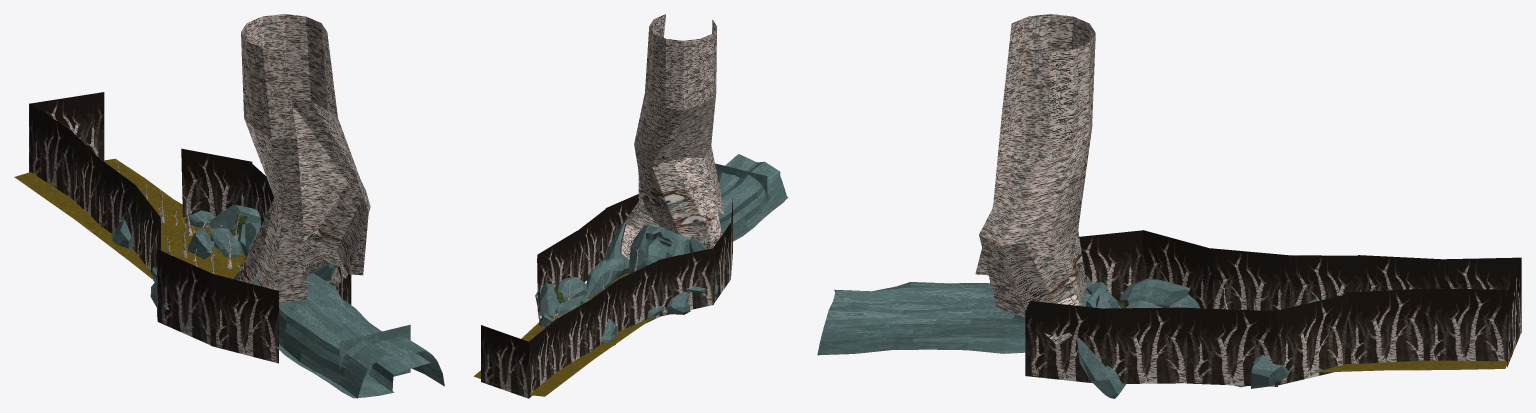
File: map_finale2.obj
The picture shows the model from 3 angles, left to right: view 1: azimuth 30°, elevation 25°; view 2: azimuth 150°, elevation 25°; view 3: azimuth 270°, elevation 25°; orthographic projection. The views are drawn at different scales.
Visible parts, largest first — view 1: big_tree, roof, lvl_floor, foret.013, foret.003, foret.012, foret.007, foret.006, foret.009, foret.008, foret.010, double_jump (+9 smaller); view 2: big_tree, roof, foret.006, foret.011, foret.010, foret.008, lvl_floor, foret.002, foret.001, foret.007, foret.009, foret.012 (+12 smaller); view 3: big_tree, roof, foret.002, foret.005, foret.001, foret.004, foret, foret.003, foret.010, foret.011, foret.009, foret.012 (+8 smaller).
Boxes of the visible parts, <box> form: big_tree: <box>238,14,370,303</box>; roof: <box>252,272,444,398</box>; lvl_floor: <box>14,158,245,280</box>; foret.013: <box>210,273,278,363</box>; foret.003: <box>181,148,252,217</box>; foret.012: <box>157,249,212,344</box>; foret.007: <box>30,104,72,197</box>; foret.006: <box>29,92,104,172</box>; foret.009: <box>96,156,136,251</box>; foret.008: <box>71,131,102,227</box>; foret.010: <box>135,185,160,281</box>; double_jump: <box>369,353,430,391</box>; big_tree: <box>620,14,724,259</box>; roof: <box>649,154,786,253</box>; foret.006: <box>481,325,529,398</box>; foret.011: <box>658,248,713,316</box>; foret.010: <box>618,260,660,331</box>; foret.008: <box>556,298,593,371</box>; lvl_floor: <box>473,273,655,396</box>; foret.002: <box>537,231,576,310</box>; foret.001: <box>577,208,606,282</box>; foret.007: <box>529,319,556,397</box>; foret.009: <box>587,279,618,353</box>; foret.012: <box>713,223,730,303</box>; big_tree: <box>975,14,1095,345</box>; roof: <box>817,282,1091,355</box>; foret.002: <box>1187,308,1277,386</box>; foret.005: <box>1423,288,1507,361</box>; foret.001: <box>1105,307,1188,383</box>; foret.004: <box>1344,288,1427,363</box>; foret: <box>1025,301,1106,383</box>; foret.003: <box>1275,294,1348,385</box>; foret.010: <box>1211,248,1291,311</box>; foret.011: <box>1142,230,1212,308</box>; foret.009: <box>1289,255,1368,307</box>; foret.012: <box>1079,230,1142,307</box>.
Size of the model in its own units: 49.67 by 88.37 by 171.
